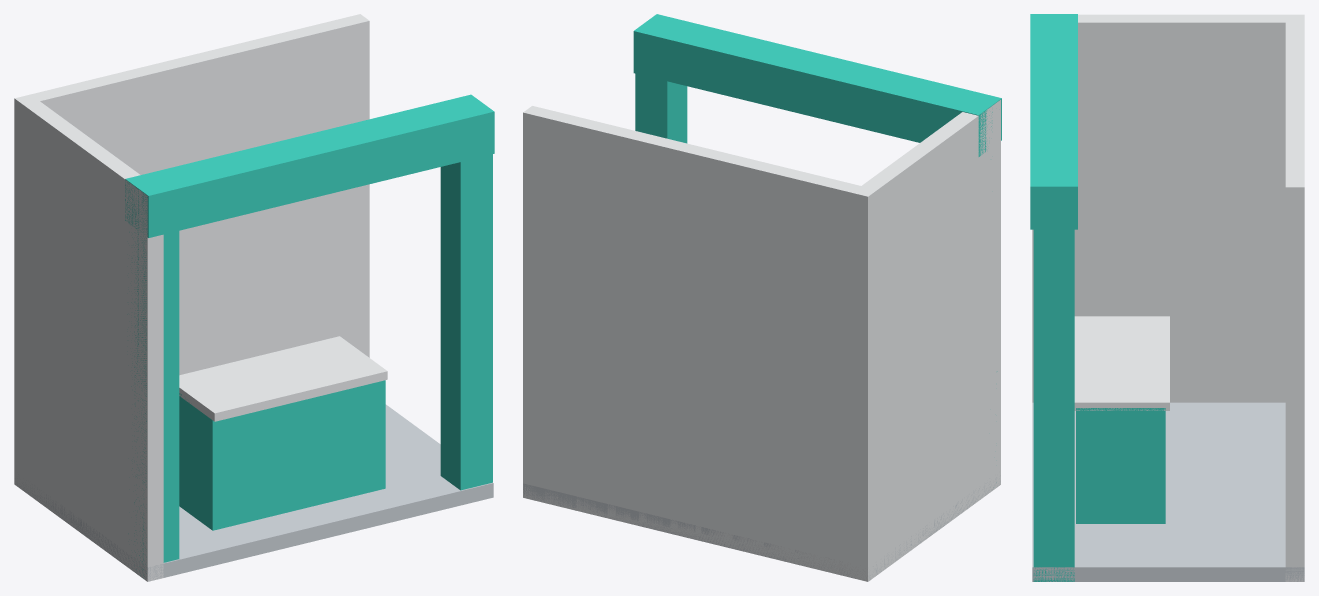
The picture shows the model from 3 angles, left to right: view 1: azimuth 30°, elevation 25°; view 2: azimuth 150°, elevation 25°; view 3: azimuth 270°, elevation 25°; orthographic projection. The views are drawn at different scales.
Parts seen in each view (by area): view 1: Exhibition Booth Concept; view 2: Exhibition Booth Concept; view 3: Exhibition Booth Concept.
Boxes of the visible parts, x1,y1,x2,y2 form: Exhibition Booth Concept: (14,14,494,581); Exhibition Booth Concept: (523,14,1001,581); Exhibition Booth Concept: (1030,14,1304,581).
Bounding box in the file's own units: 3 × 3.2 × 2.01.
